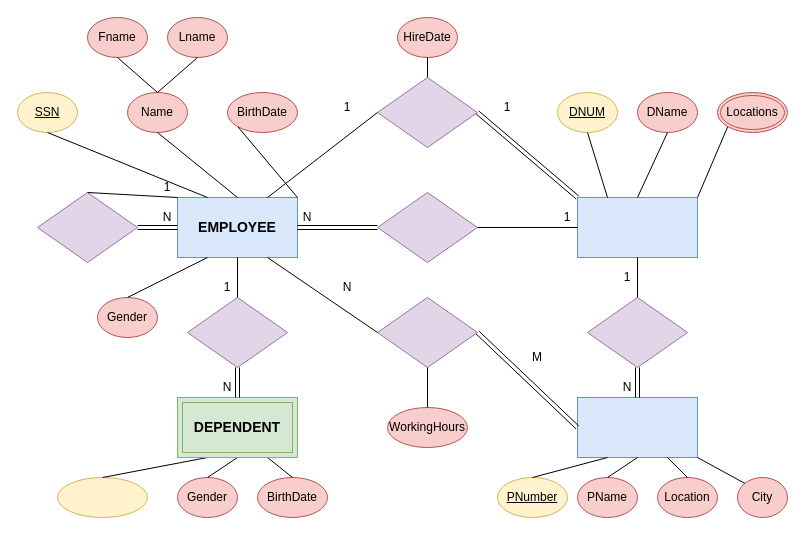
The diagram is 805 pixels wide and 535 high, and some of its shapes have lost their labels. The shapes that lost their labels are listed below. From the top down, each one's centre as x and y in pixels, then its label:
point 427,112: MANAGES
point 87,227: SUPERVISES
point 427,227: WORKS_FOR
point 637,227: DEPARTMENT
point 237,332: DEPENDENTS_OF
point 427,332: WORKS_ON
point 637,332: CONTROLS
point 637,427: PROJECT
point 102,497: DependentName
